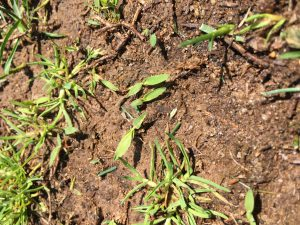crabgrass: (125, 148, 211, 225), (28, 51, 106, 132)
